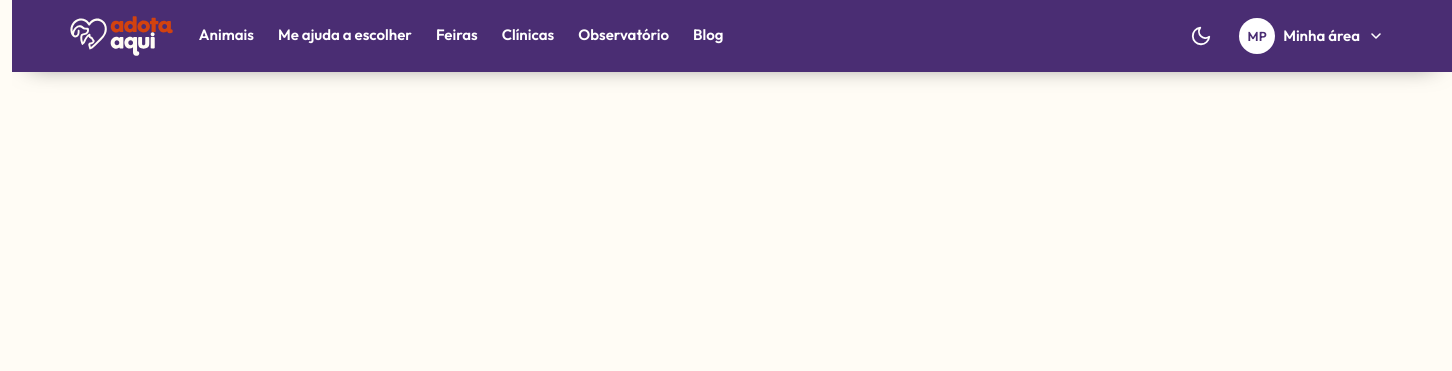
it: Sair encerra a sessão e volta pra página inicial
Click the button "MP Minha área".
click(1316, 36)  # box x1=1235 y1=14 x2=1396 y2=58
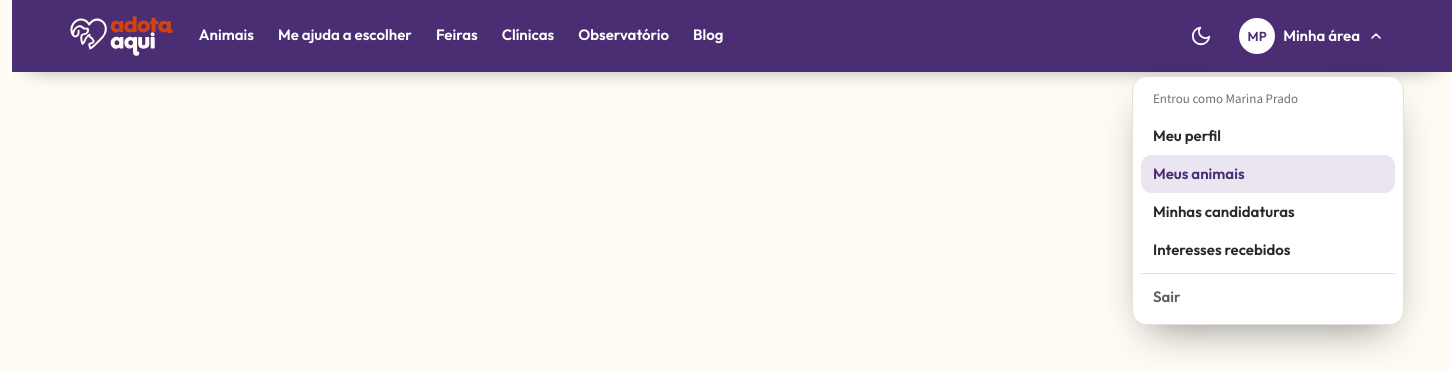
Click the button "Sair".
click(1268, 296)  # box x1=1141 y1=278 x2=1395 y2=316
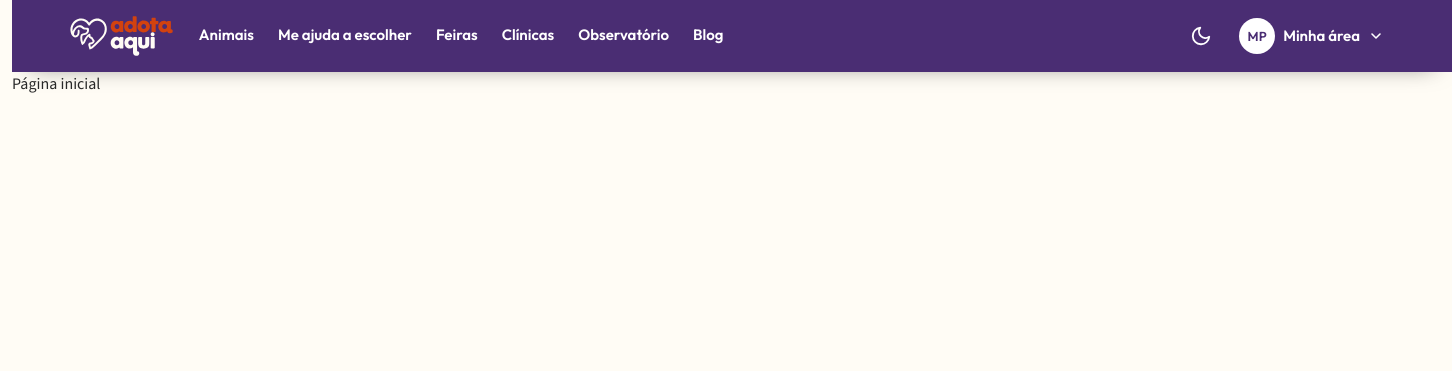
Check: the text "Página inicial" is shown, box x1=12 y1=73 x2=100 y2=94
